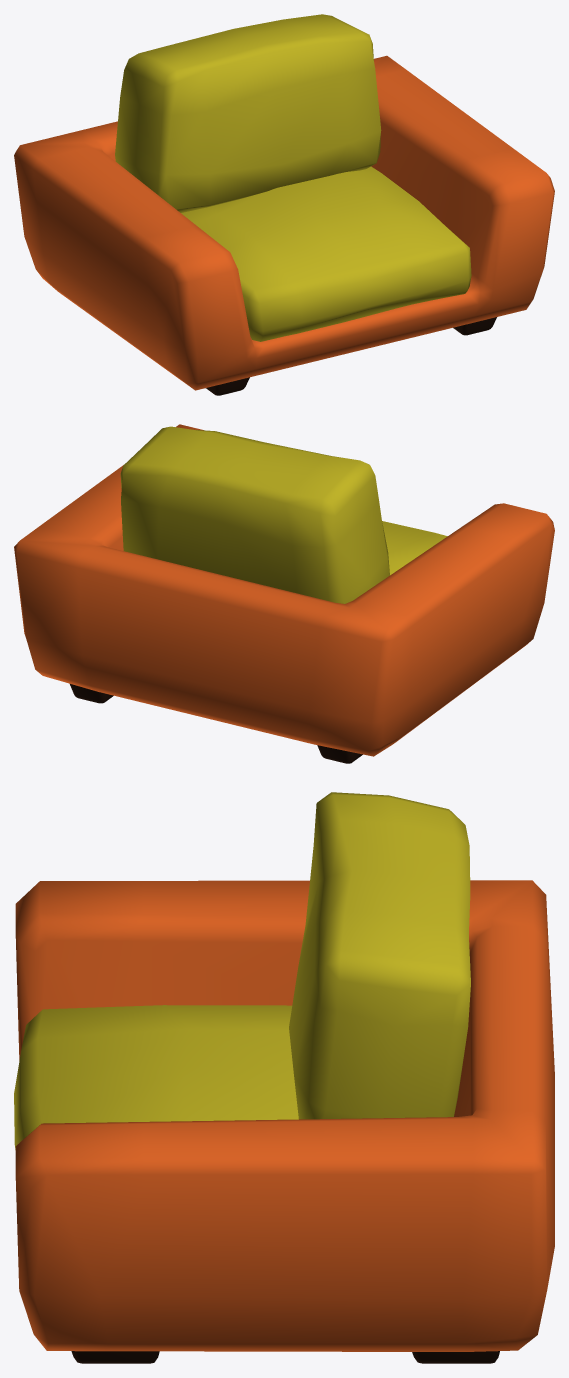
File: Sofa_Single.fbx
3 views of the same model, one above another, from view 1: azimuth 30°, elevation 25°; view 2: azimuth 150°, elevation 25°; view 3: azimuth 270°, elevation 25° (orthographic). The views are drawn at different scales.
Parts seen in each view (by area): view 1: SM_Sofa_Large; view 2: SM_Sofa_Large; view 3: SM_Sofa_Large.
Boxes of the visible parts, x1,y1,x2,y2 form: SM_Sofa_Large: (14,14,554,395); SM_Sofa_Large: (14,424,554,763); SM_Sofa_Large: (14,792,554,1363).
Bounding box in the file's own units: 171 × 110 × 136.
